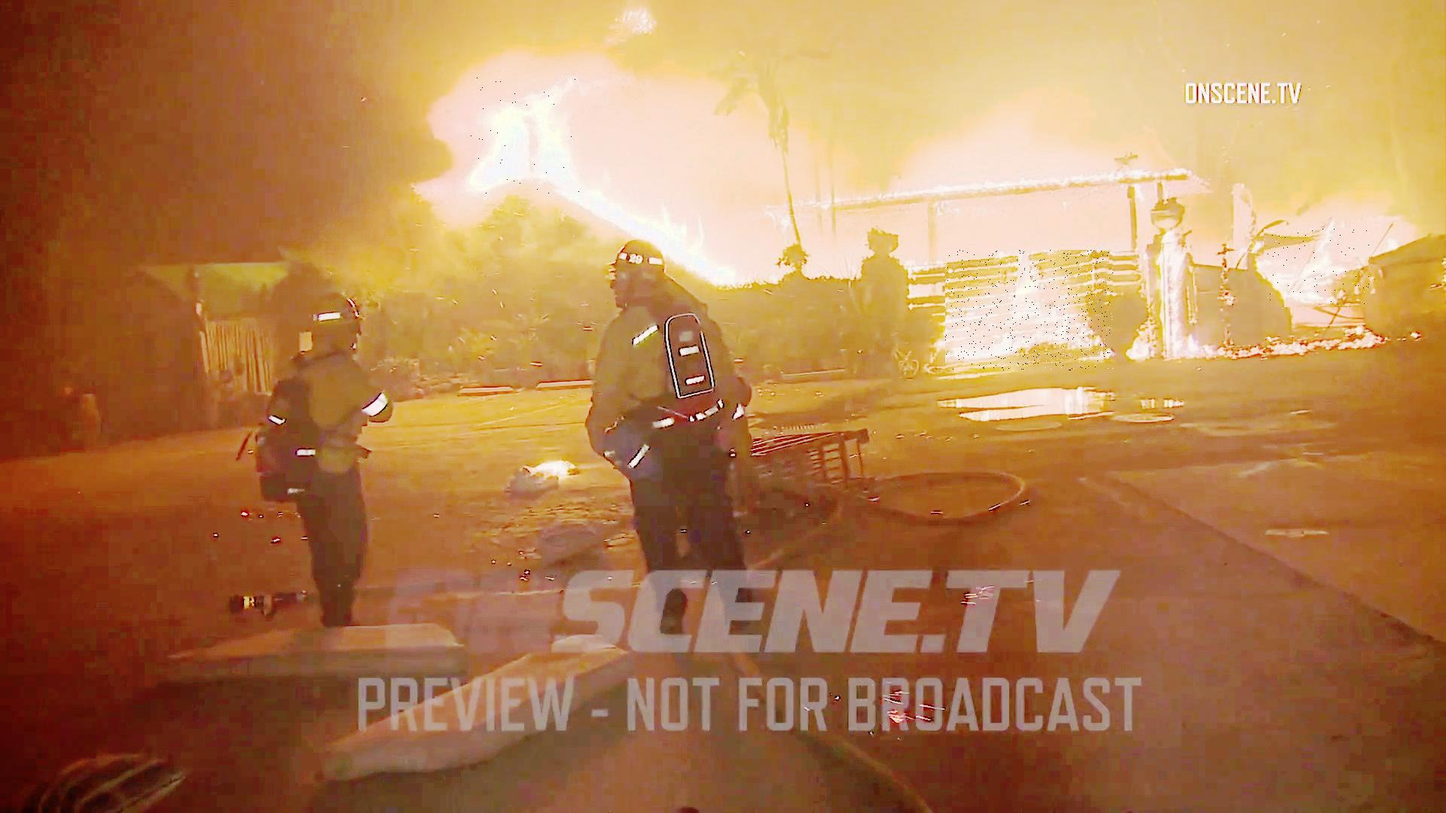fire: (946, 251, 1114, 371), (467, 75, 579, 195), (1264, 229, 1370, 309)
